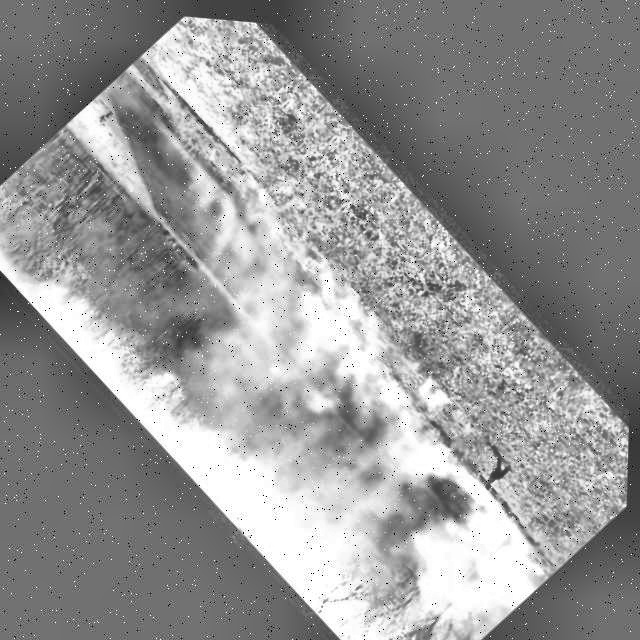Fire: (18, 113, 598, 640), (111, 51, 191, 134)
